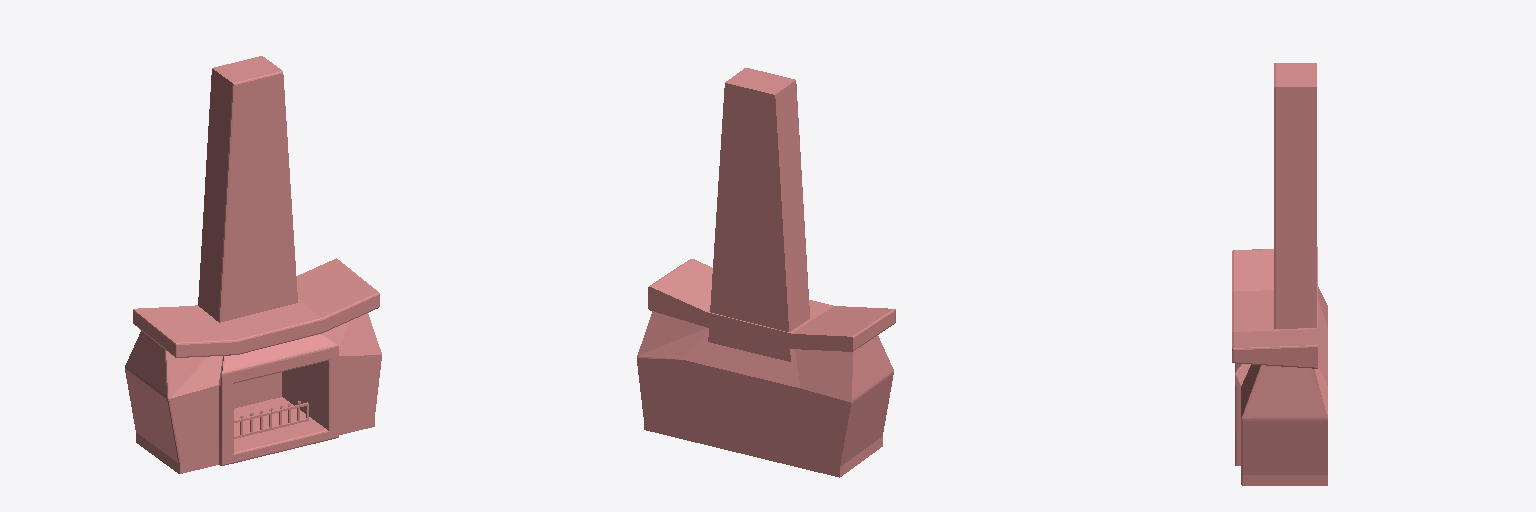
Rendered from chimenea.obj.
3 renders of one model, left to right at view 1: azimuth 30°, elevation 25°; view 2: azimuth 150°, elevation 25°; view 3: azimuth 270°, elevation 25°, orthographic.
Parts seen in each view (by area): view 1: Box036; view 2: Box036; view 3: Box036.
Part boxes in pixels (bbox=[...]): Box036: bbox=[125, 56, 381, 473]; Box036: bbox=[637, 68, 895, 477]; Box036: bbox=[1232, 63, 1327, 485].
Size of the model in its own units: 4.09 by 6.58 by 1.59.